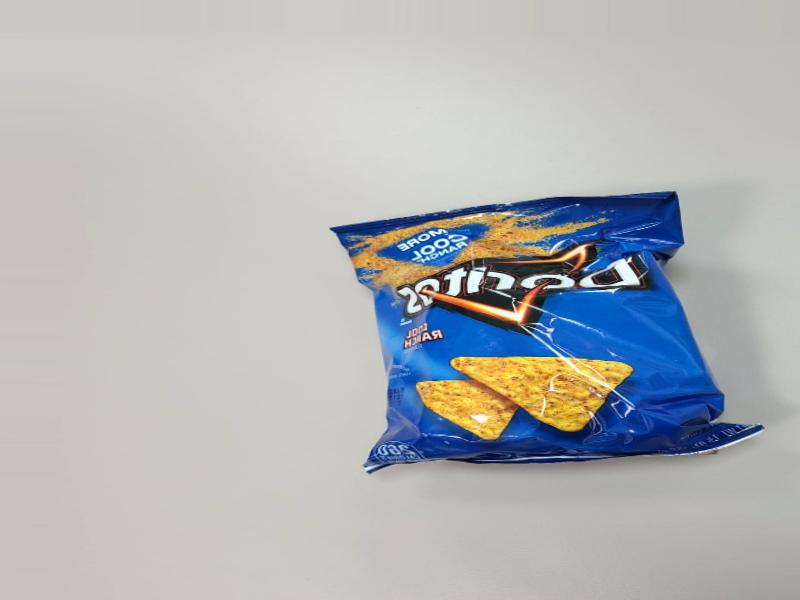doritos: (320, 207, 704, 486)
